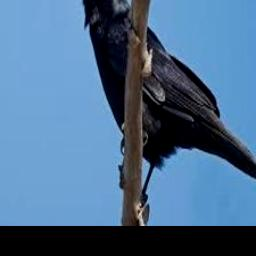Crow: (72, 0, 256, 194)
